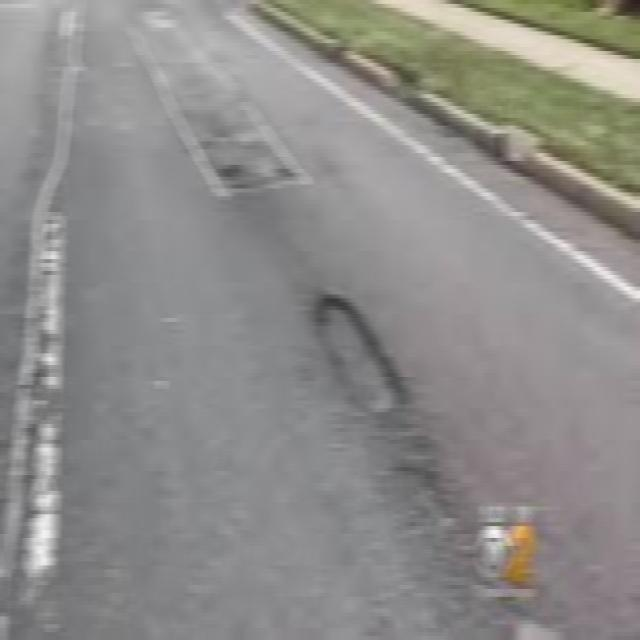Pothole: (304, 287, 414, 417), (199, 133, 315, 203)
